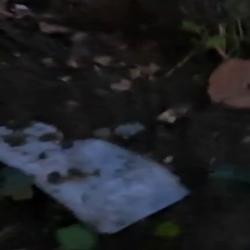Restaffald: (0, 120, 190, 233)
